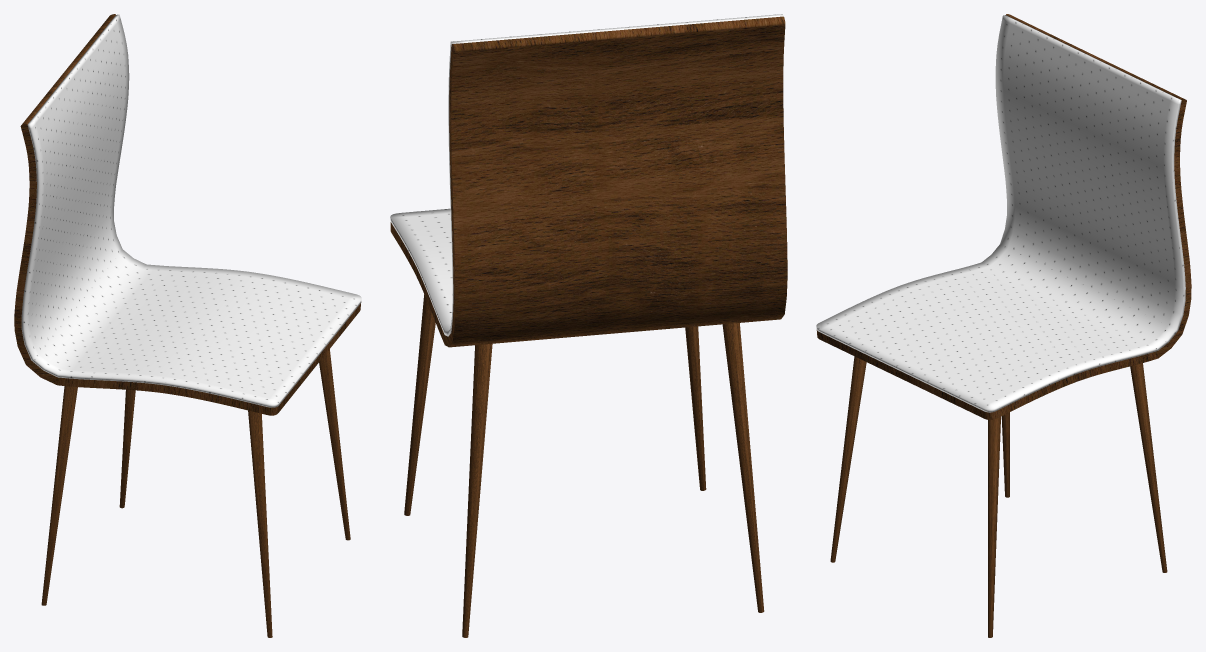
The model's file is Chair.glb.
3 views of the same model, side by side, from view 1: azimuth 30°, elevation 25°; view 2: azimuth 150°, elevation 25°; view 3: azimuth 270°, elevation 25° (orthographic). The views are drawn at different scales.
Visible parts, largest first — view 1: Chair_Fabric, Chair_Legs, Chair; view 2: Chair, Chair_Legs, Chair_Fabric; view 3: Chair_Fabric, Chair_Legs, Chair.
Boxes of the visible parts, <box> form: Chair_Fabric: <box>21,14,361,407</box>; Chair_Legs: <box>41,349,350,637</box>; Chair: <box>14,14,361,415</box>; Chair: <box>390,16,787,347</box>; Chair_Legs: <box>404,294,764,637</box>; Chair_Fabric: <box>390,14,783,336</box>; Chair_Fabric: <box>816,15,1185,412</box>; Chair_Legs: <box>830,356,1167,637</box>; Chair: <box>816,14,1191,419</box>.
Bounding box in the file's own units: 0.7903 × 1.1 × 0.7895.
Materials: 2 (2 with a texture image).
